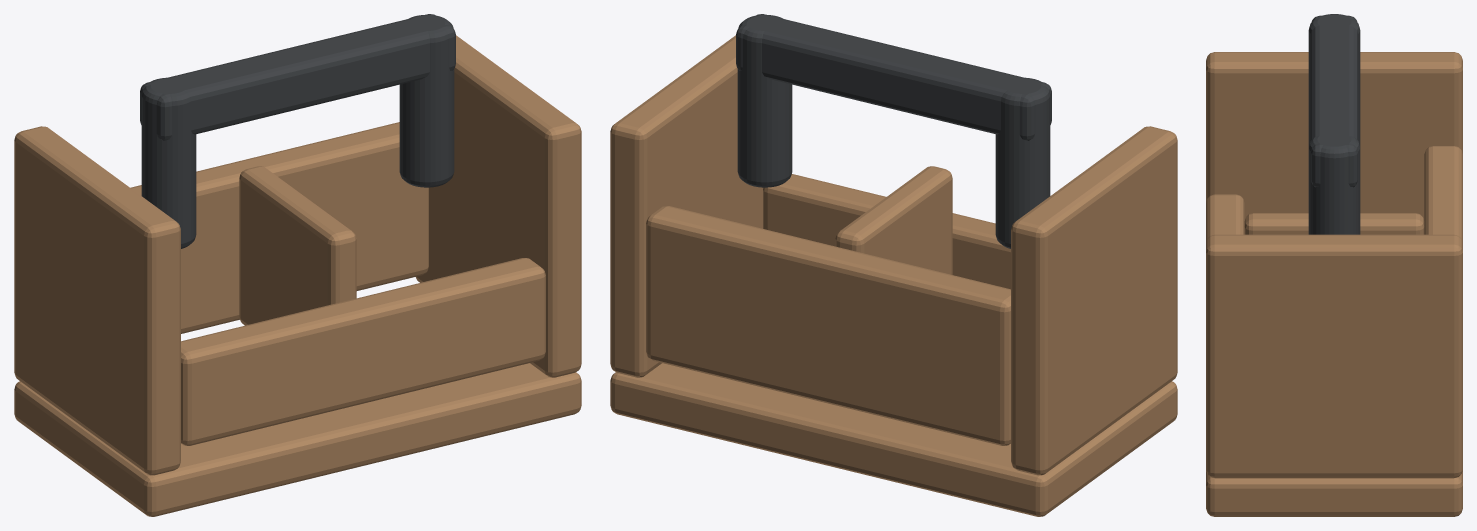
The model's file is cafe-condiment-caddy-01.glb.
3 views of the same model, side by side, from view 1: azimuth 30°, elevation 25°; view 2: azimuth 150°, elevation 25°; view 3: azimuth 270°, elevation 25° (orthographic). The views are drawn at different scales.
Parts seen in each view (by area): view 1: cafe-condiment-caddy-01; view 2: cafe-condiment-caddy-01; view 3: cafe-condiment-caddy-01.
Boxes of the visible parts, x1=… form: cafe-condiment-caddy-01: x1=14, y1=14, x2=581, y2=516; cafe-condiment-caddy-01: x1=610, y1=14, x2=1177, y2=516; cafe-condiment-caddy-01: x1=1206, y1=14, x2=1462, y2=516.
Bounding box in the file's own units: 0.22 × 0.175 × 0.12.
